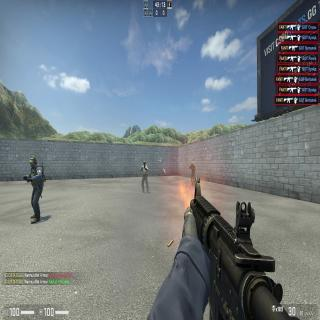CT-Body: (28, 156, 42, 225)
CT-Head: (29, 157, 37, 171)
T-Body: (143, 163, 147, 191), (191, 162, 195, 186)
T-Head: (144, 163, 146, 167), (192, 162, 194, 166)
